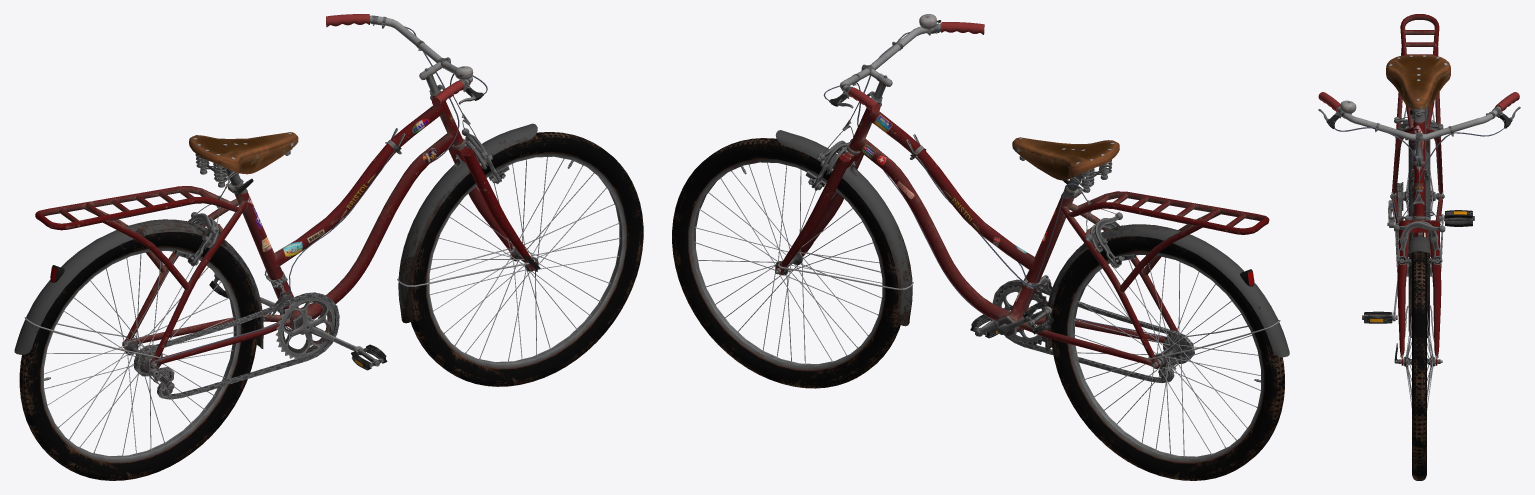
The model's file is vintage_bicycle_1k.glb.
The picture shows the model from 3 angles, left to right: view 1: azimuth 30°, elevation 25°; view 2: azimuth 150°, elevation 25°; view 3: azimuth 270°, elevation 25°; orthographic projection. The views are drawn at different scales.
Parts seen in each view (by area): view 1: rama_low; view 2: rama_low; view 3: rama_low.
Part boxes in pixels (x1,y1,x2,y2): rama_low: (14,14,643,480); rama_low: (672,14,1289,480); rama_low: (1318,14,1520,480).
Size of the model in its own units: 906 by 511 by 290.
7 materials, 7 textured.
